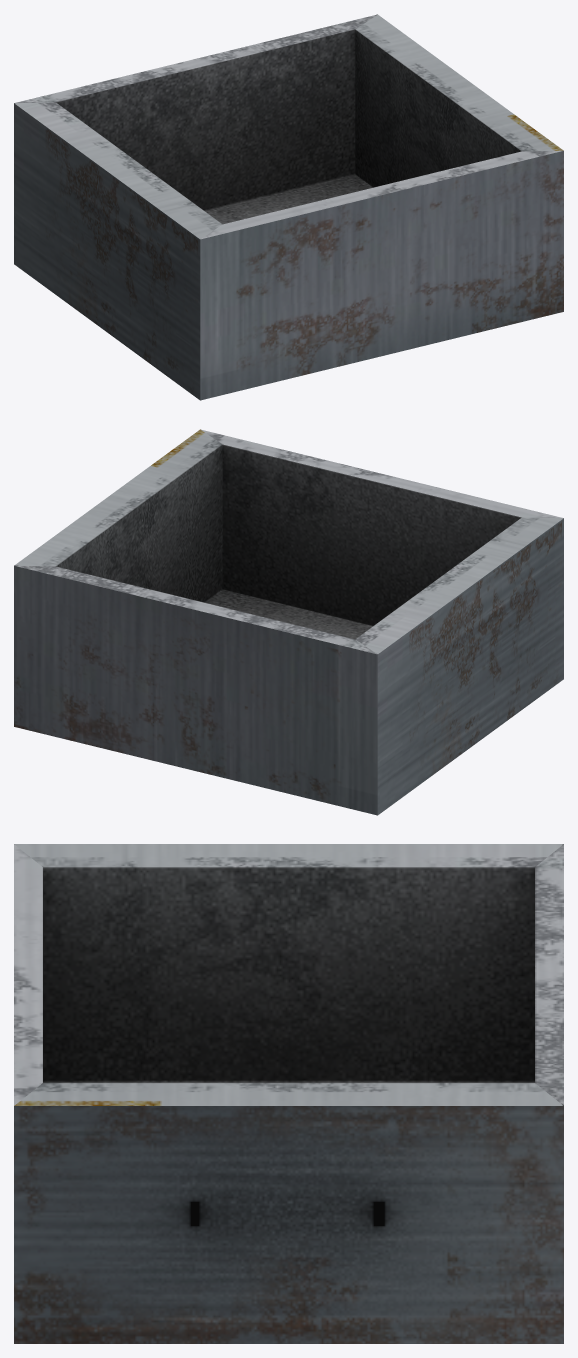
The model's file is DrawerContainer.fbx.
The picture shows the model from 3 angles, top to bottom: view 1: azimuth 30°, elevation 25°; view 2: azimuth 150°, elevation 25°; view 3: azimuth 270°, elevation 25°; orthographic projection. The views are drawn at different scales.
Parts seen in each view (by area): view 1: polySurface222; view 2: polySurface222; view 3: polySurface222.
Part boxes in pixels (x1,y1,x2,y2): polySurface222: [14, 14, 563, 400]; polySurface222: [14, 429, 563, 815]; polySurface222: [14, 844, 563, 1343].
Size of the model in its own units: 3.04 by 1.28 by 2.69.
